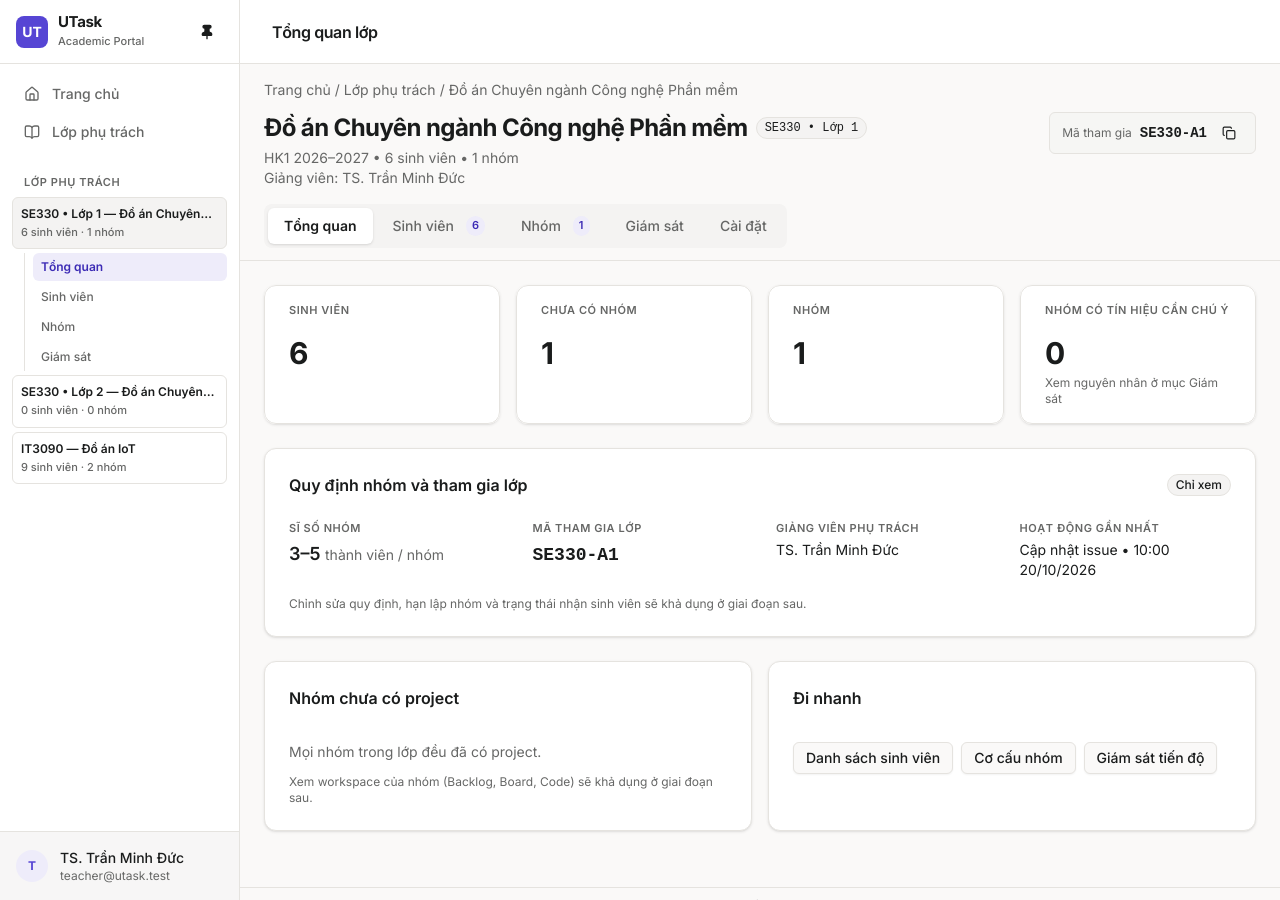
Join code copy › confirms only when the clipboard write succeeds
Click the button named "Sao chép mã tham gia".
click(1229, 133)  # box [1215,119,1243,147]
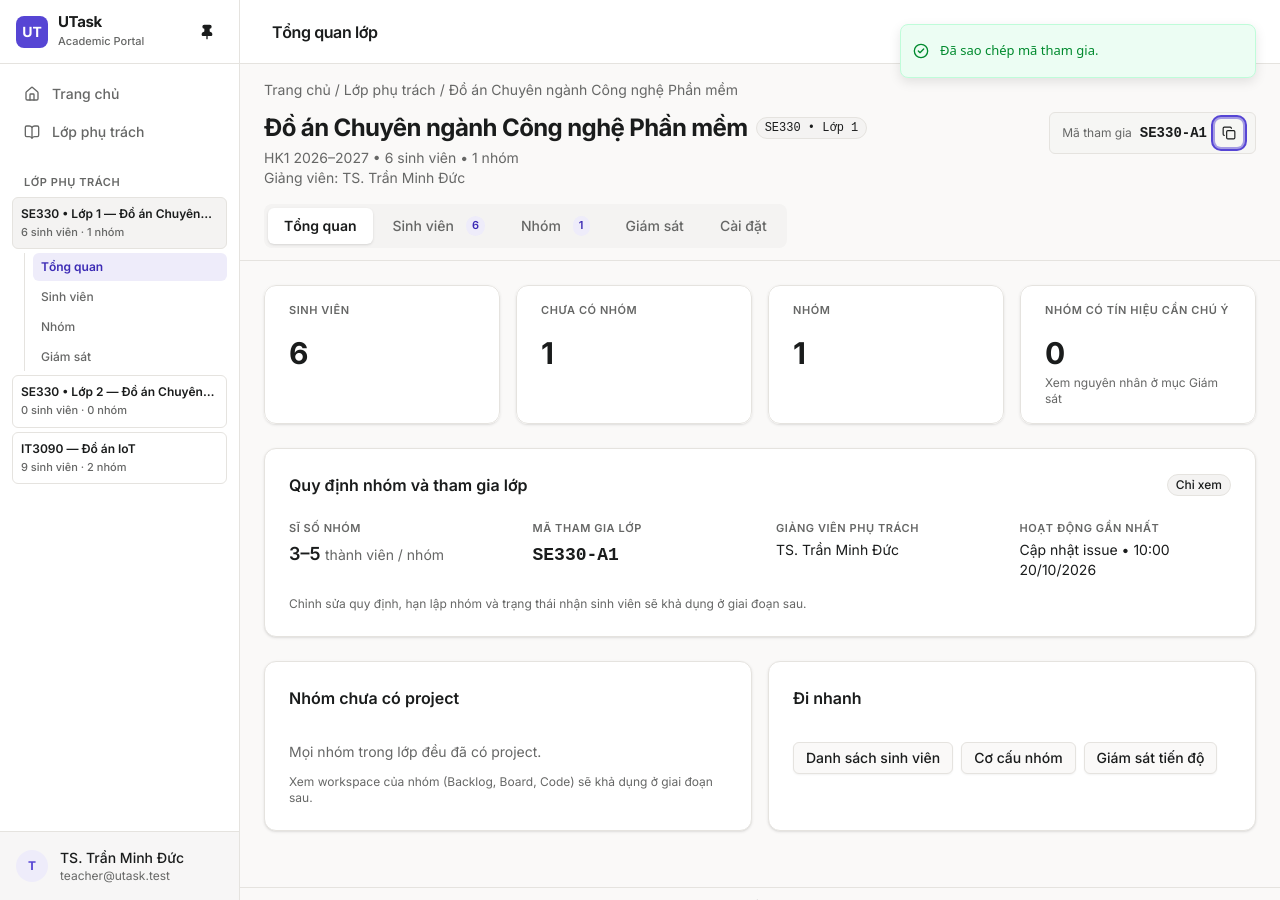
Result: the text "Đã sao chép mã tham gia." is shown at [940,41,1098,60]
